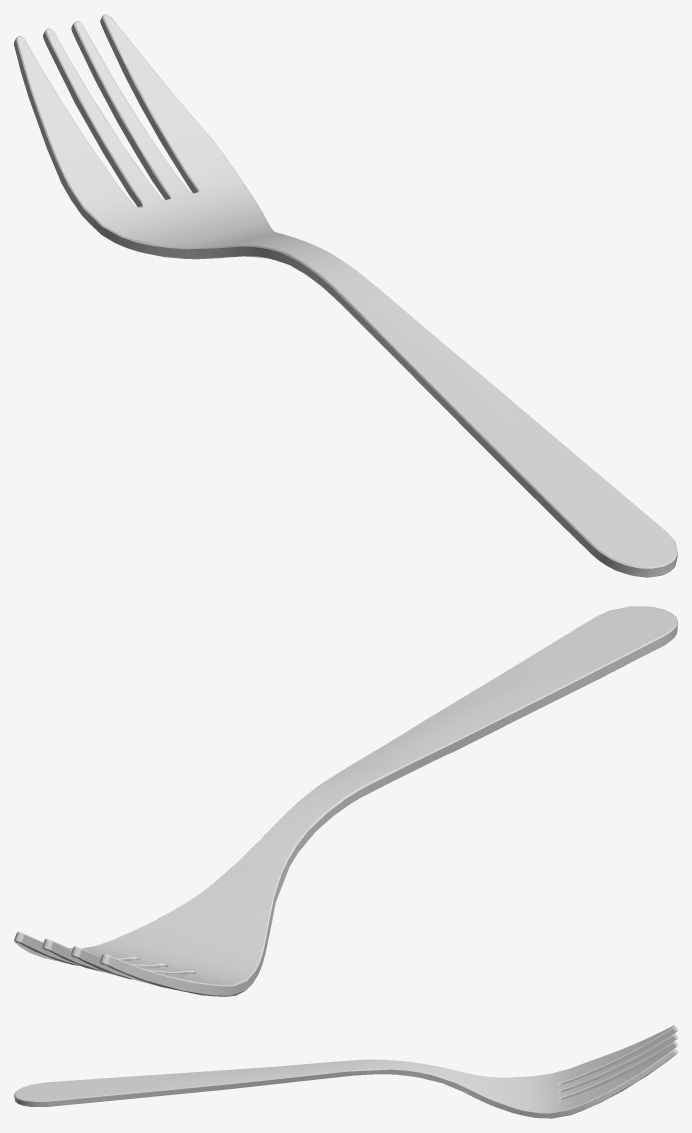
Rendered from Fornuft40428482.glb.
The picture shows the model from 3 angles, top to bottom: view 1: azimuth 30°, elevation 25°; view 2: azimuth 150°, elevation 25°; view 3: azimuth 270°, elevation 25°; orthographic projection. The views are drawn at different scales.
Visible parts, largest first — view 1: model; view 2: model; view 3: model.
Part boxes in pixels (x1,y1,x2,y2): model: [14, 14, 677, 577]; model: [14, 606, 677, 996]; model: [14, 1025, 677, 1118].
Bounding box in the file's own units: 0.0286 × 0.0205 × 0.1949.
1 material, 1 textured.
